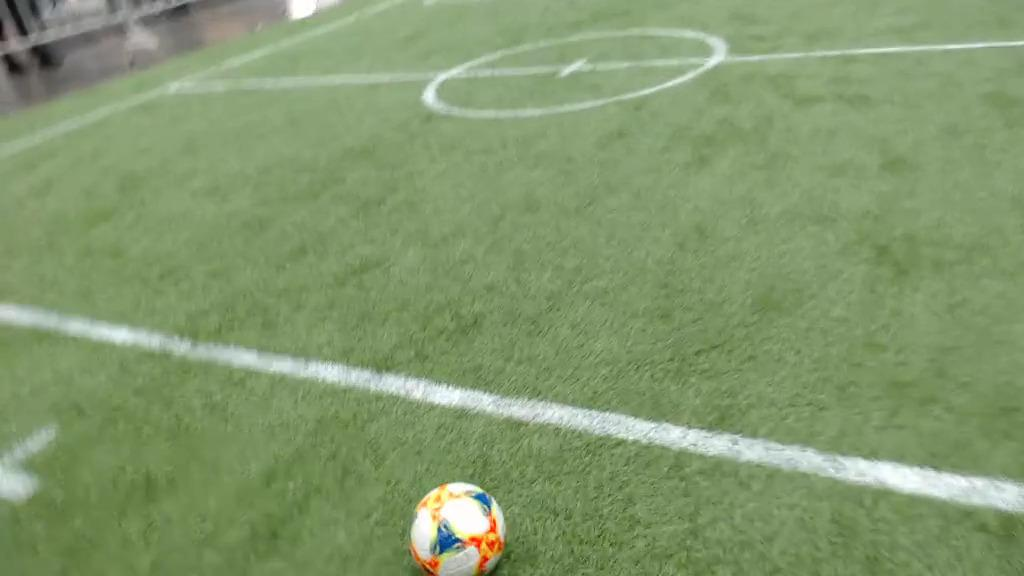ball: (408, 480, 508, 576)
